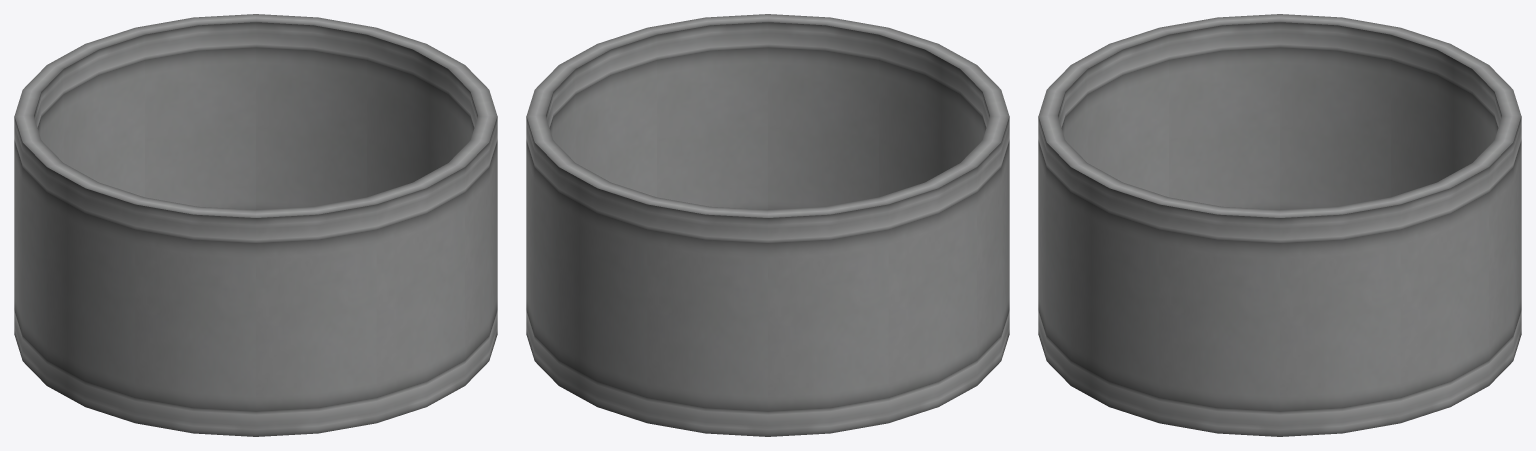
The model's file is SatSphere_ProbeCore_0_1_Fairing.obj.
3 renders of one model, left to right at view 1: azimuth 30°, elevation 25°; view 2: azimuth 150°, elevation 25°; view 3: azimuth 270°, elevation 25°, orthographic.
Visible parts, largest first — view 1: SatSphere_ProbeCore_0_1_Fairing; view 2: SatSphere_ProbeCore_0_1_Fairing; view 3: SatSphere_ProbeCore_0_1_Fairing.
Part boxes in pixels (box(x1,y1,x2,y2)): SatSphere_ProbeCore_0_1_Fairing: box(14, 14, 497, 436); SatSphere_ProbeCore_0_1_Fairing: box(526, 14, 1009, 436); SatSphere_ProbeCore_0_1_Fairing: box(1038, 14, 1521, 436).
Size of the model in its own units: 0.625 by 0.3125 by 0.625.
